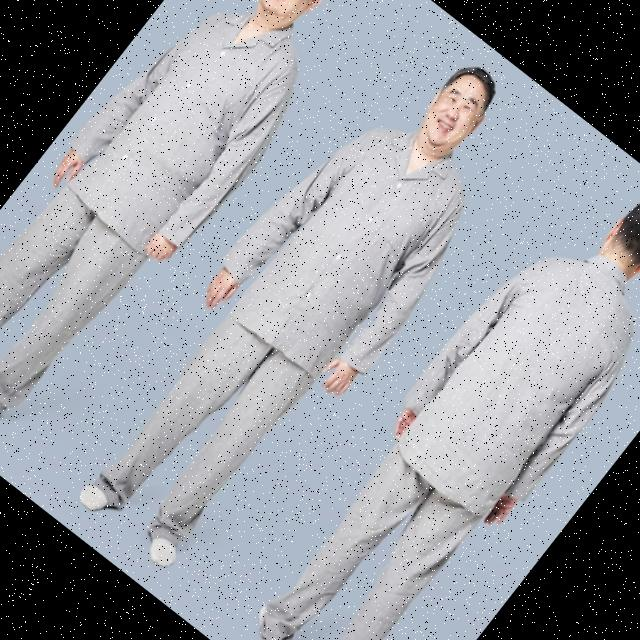Person: (47, 12, 557, 592), (230, 150, 640, 640), (0, 0, 387, 462)
